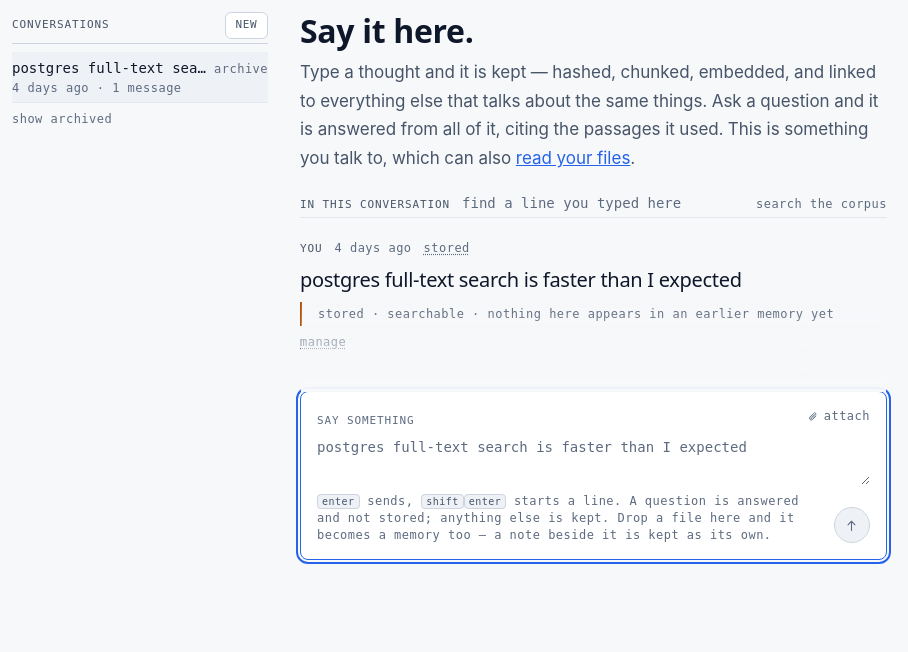
Test case: managing a memory from the chat › a typed /delete --permanent asks for confirmation rather than deleting
Type "/delete --permanent" into the text box labelled "say something".
click(594, 461); type("/delete --permanent")  # box left=317, top=437, right=870, bottom=485
Then press Enter
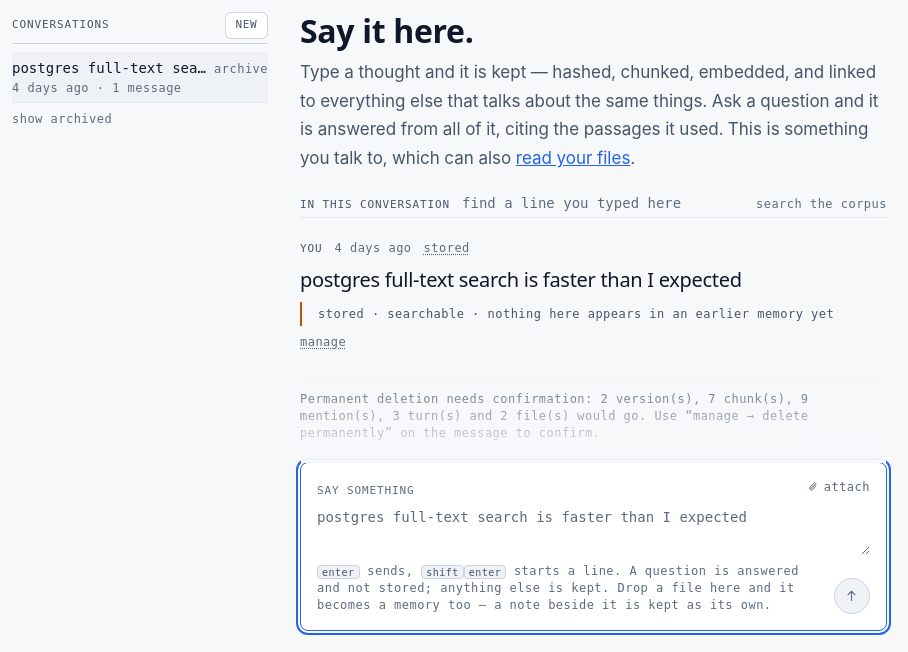
Check: the text "Permanent deletion needs confirmation" is shown, box left=300, top=392, right=808, bottom=440
